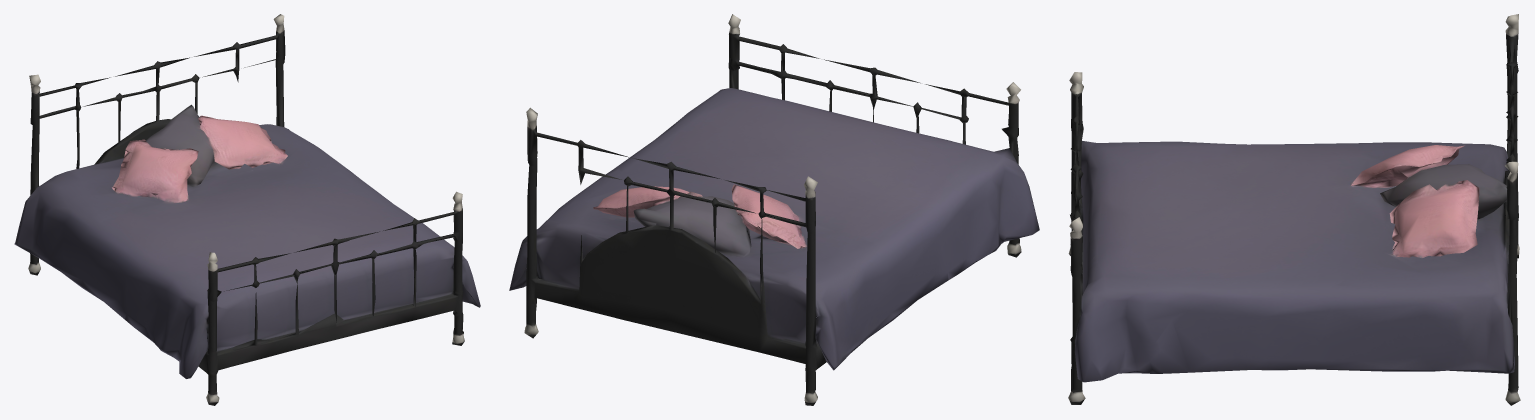
File: metal-yatak.glb
The picture shows the model from 3 angles, left to right: view 1: azimuth 30°, elevation 25°; view 2: azimuth 150°, elevation 25°; view 3: azimuth 270°, elevation 25°; orthographic projection. The views are drawn at different scales.
Visible parts, largest first — view 1: tripo_node_5701dafe-396e-4962-932f-677b87d2ff56; view 2: tripo_node_5701dafe-396e-4962-932f-677b87d2ff56; view 3: tripo_node_5701dafe-396e-4962-932f-677b87d2ff56.
Boxes of the visible parts, box(x1,y1,x2,y2) form: tripo_node_5701dafe-396e-4962-932f-677b87d2ff56: box(14, 14, 480, 405); tripo_node_5701dafe-396e-4962-932f-677b87d2ff56: box(509, 14, 1039, 405); tripo_node_5701dafe-396e-4962-932f-677b87d2ff56: box(1068, 14, 1520, 405).
Size of the model in its own units: 0.9244 by 0.595 by 1.
Materials: 1 (1 with a texture image).
